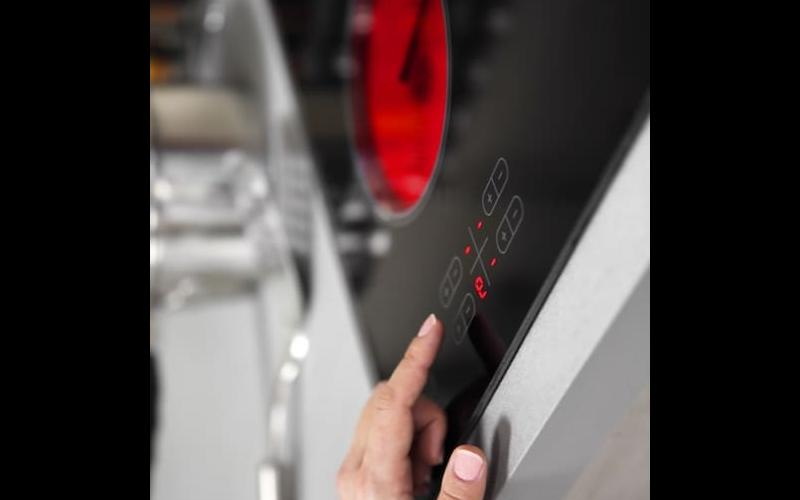controlled_fire: (350, 0, 451, 196)
